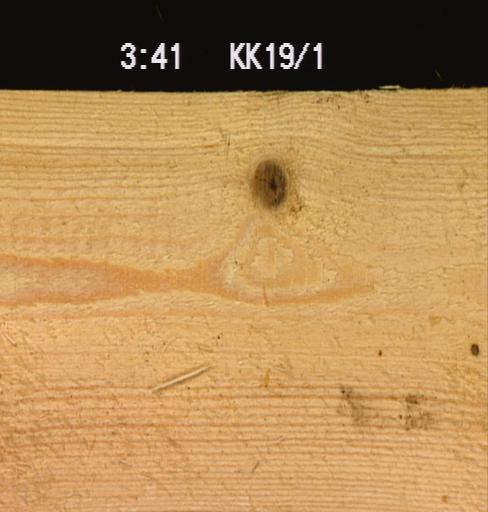small_knot: (467, 341, 480, 358)
sound_knot: (247, 154, 292, 212)
